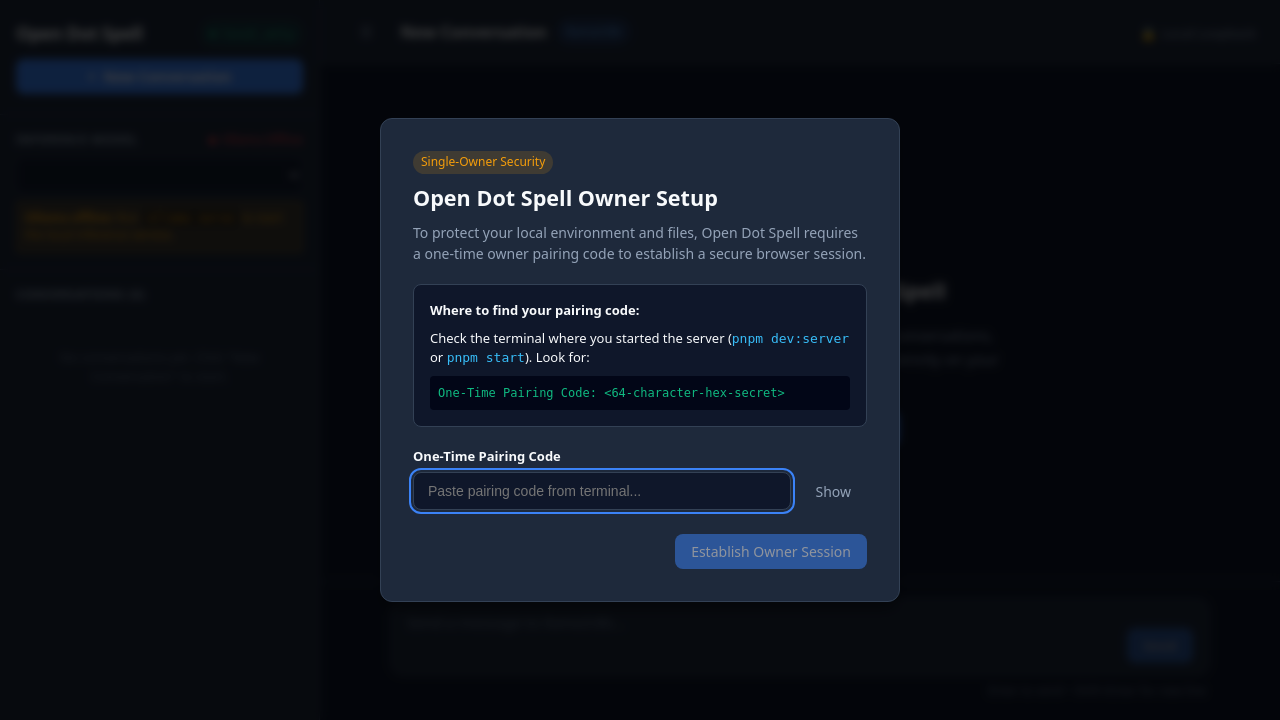
Scenario: Open Dot Spell Web UI (Step 10) › 1. displays owner pairing setup modal when unauthenticated and pairs successfully
Check: the heading "Open Dot Spell Owner Setup" is shown, box x1=413 y1=182 x2=718 y2=214
Check: the text "Single-Owner Security" is shown, box x1=413 y1=151 x2=553 y2=174
Invalid code shows error
In the password field with placeholder "Paste pairing code from terminal...": (602, 491) x1=413 y1=472 x2=792 y2=510, type "wrong-code"
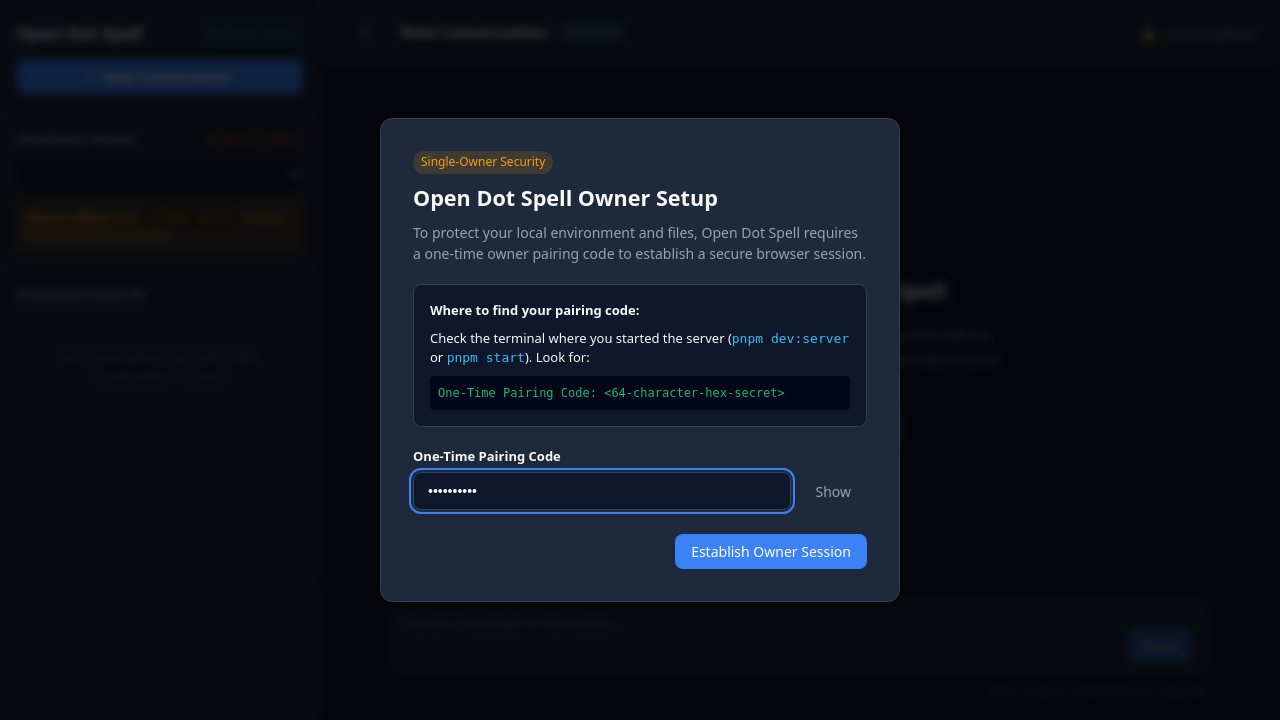
Click the button "Establish Owner Session": click(771, 552) x1=675 y1=534 x2=867 y2=569
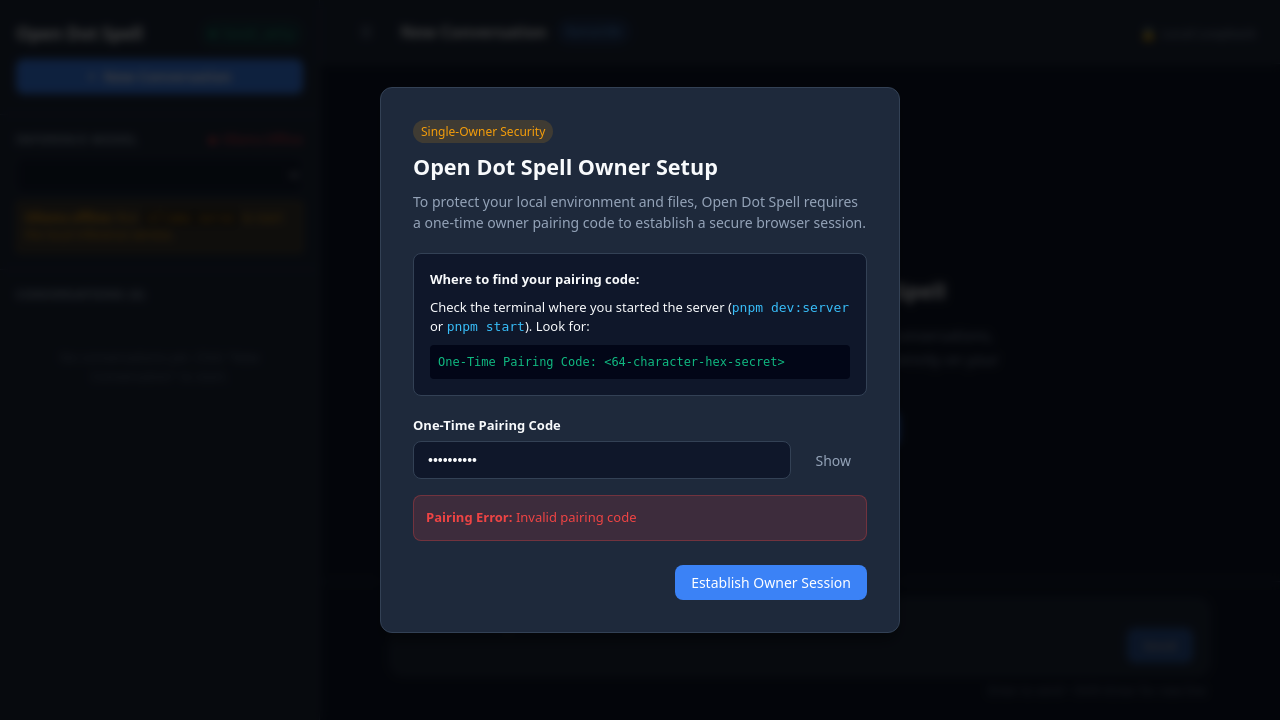
Check: the text "Pairing Error: Invalid pairing code" is shown, box x1=413 y1=495 x2=867 y2=541
Valid code succeeds
In the password field with placeholder "Paste pairing code from terminal...": (602, 460) x1=413 y1=441 x2=792 y2=479, type "valid-secret"
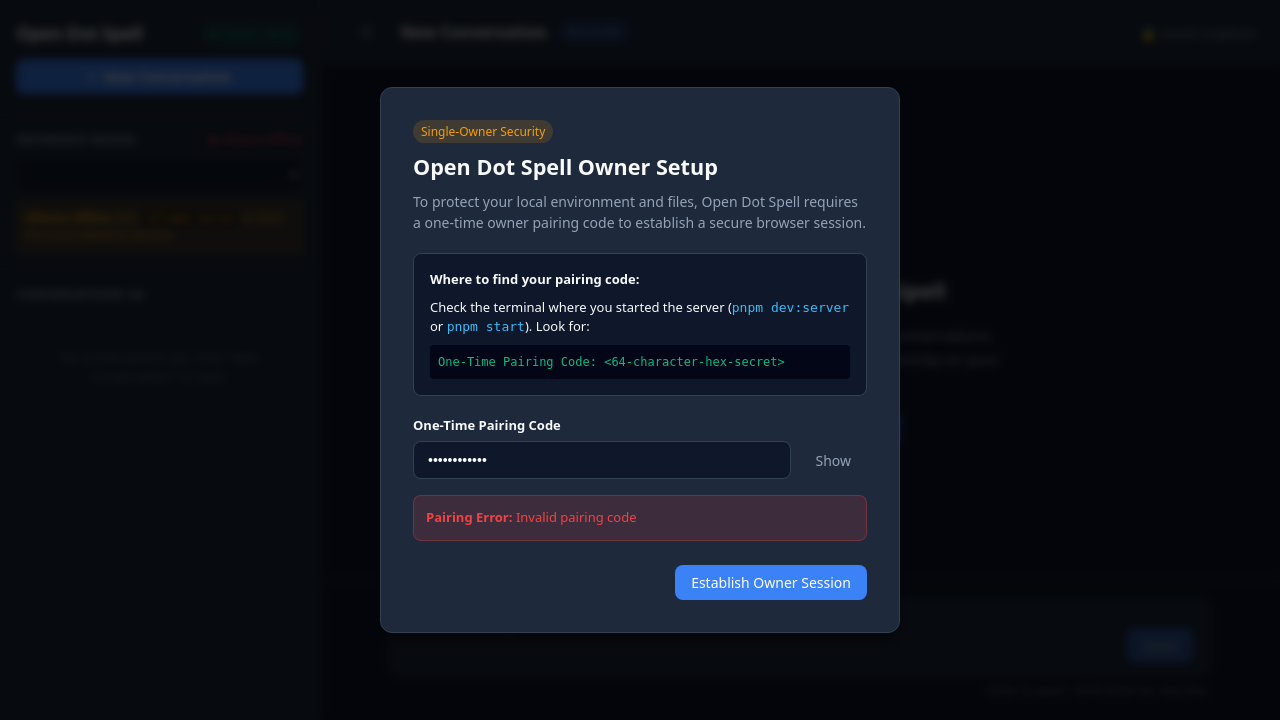
Click the button "Establish Owner Session": click(771, 582) x1=675 y1=565 x2=867 y2=600
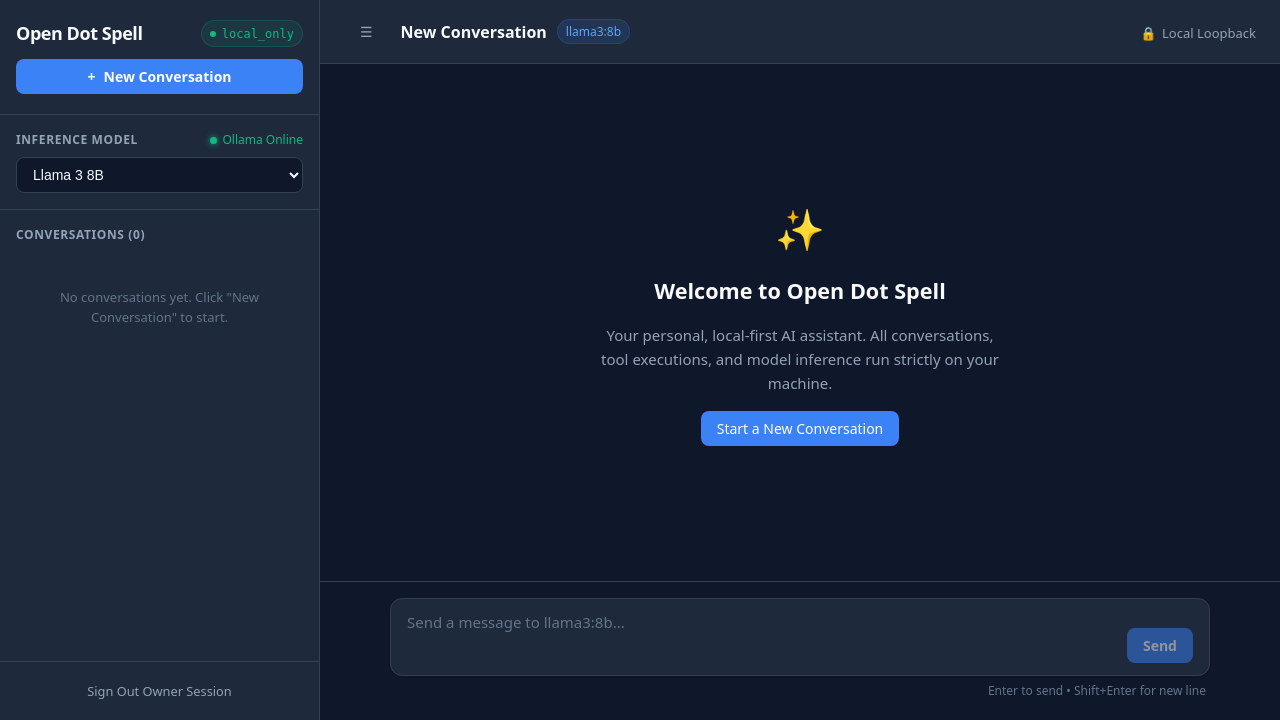
Check: the heading "Open Dot Spell" is shown, box x1=16 y1=20 x2=142 y2=47
Check: the heading "Open Dot Spell Owner Setup" is gone
